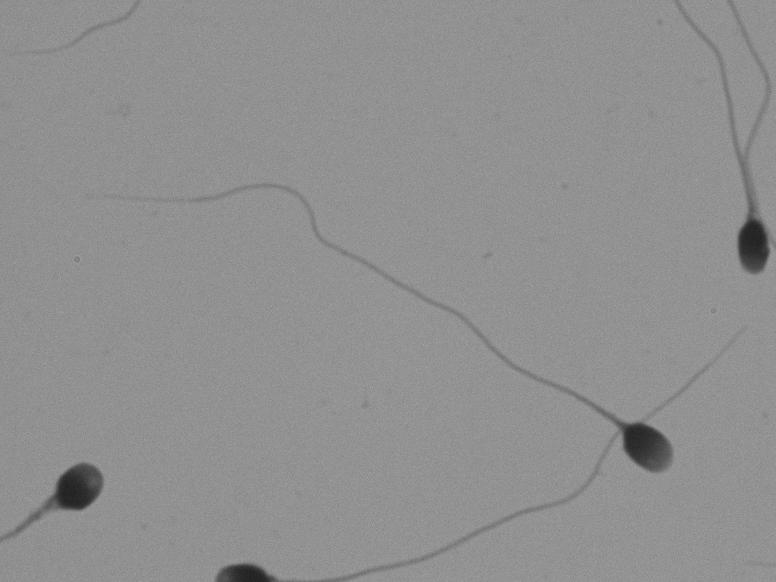Abnormal: (664, 20, 772, 296), (28, 399, 120, 554)
Normal: (108, 94, 703, 502)
